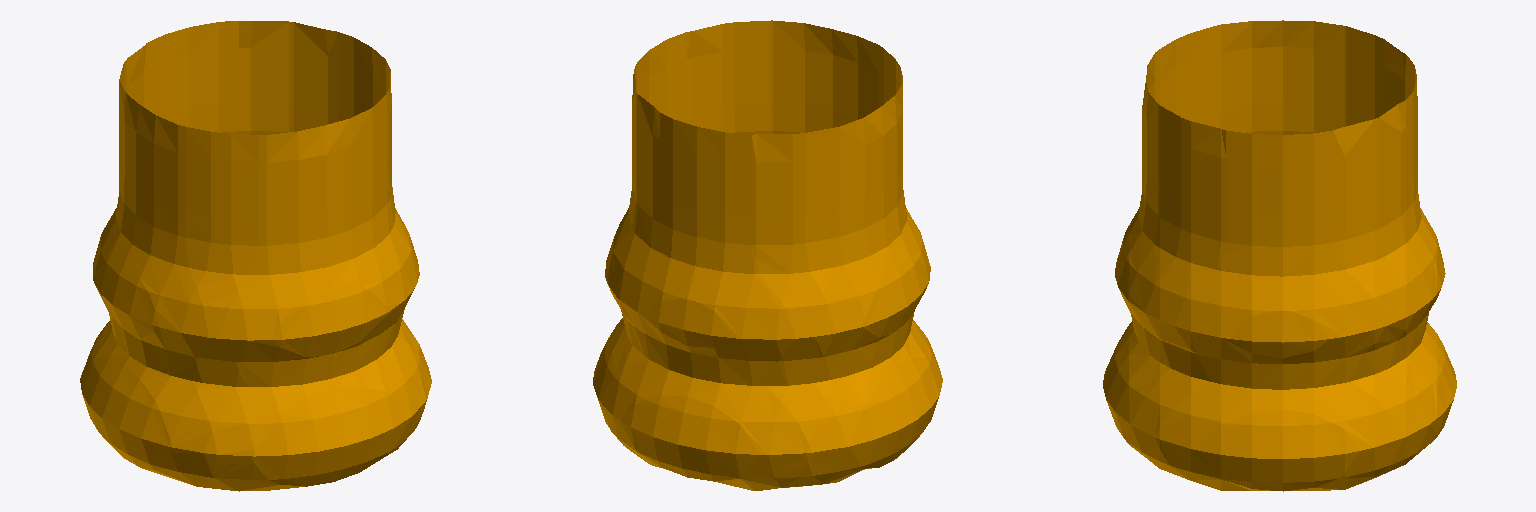
robot.urdf — cylinder_../../meshes/cylinders/cylinder_31.stl:
<?xml version="1.0" encoding="utf-8"?>  <robot name="cylinder_../../meshes/cylinders/cylinder_31.stl">   <link name="cylinder_../../meshes/cylinders/cylinder_31.stl">     <visual>       <geometry>         <mesh filename="../meshes/cylinders/cylinder_31.stl" scale="1 1 1"/>       </geometry>     </visual>     <collision>       <geometry>         <mesh filename="../meshes/cylinders/cylinder_31.stl" scale="1 1 1"/>       </geometry>     </collision>     <inertial>        <origin         xyz="0 0 0"         rpy="0 0 0" />       <mass value="0.12054714505551122"/>       <origin rpy="0 0 0" xyz="0 0 0"/>       <inertia ixx="3.391275922154766e-05" ixy="-1.3945871254566106e-08" ixz="2.5296423254599697e-08" iyy="3.391336161856691e-05" iyz="5.453831807560519e-10" izz="3.733963643996452e-05"/>     </inertial>   </link>  </robot>

--- Render facts (derived) ---
3 views of the same robot in one strip: view 1: azimuth 30°, elevation 25°; view 2: azimuth 150°, elevation 25°; view 3: azimuth 270°, elevation 25° (orthographic).
Robot: cylinder_../../meshes/cylinders/cylinder_31.stl — 1 links, 0 joints (none); root link cylinder_../../meshes/cylinders/cylinder_31.stl; default pose: every joint at zero.
Links seen in each view (by area): view 1: cylinder_../../meshes/cylinders/cylinder_31.stl; view 2: cylinder_../../meshes/cylinders/cylinder_31.stl; view 3: cylinder_../../meshes/cylinders/cylinder_31.stl.
Link boxes in pixels (left/top/right/bottom): cylinder_../../meshes/cylinders/cylinder_31.stl: left=80, top=21, right=431, bottom=491; cylinder_../../meshes/cylinders/cylinder_31.stl: left=593, top=20, right=942, bottom=490; cylinder_../../meshes/cylinders/cylinder_31.stl: left=1103, top=20, right=1456, bottom=491.
Bounding box of the posed robot: 0.0576 × 0.0576 × 0.0646 m (x, y, z).
1 mesh visuals loaded from 1 distinct referenced files (1 binary STL).